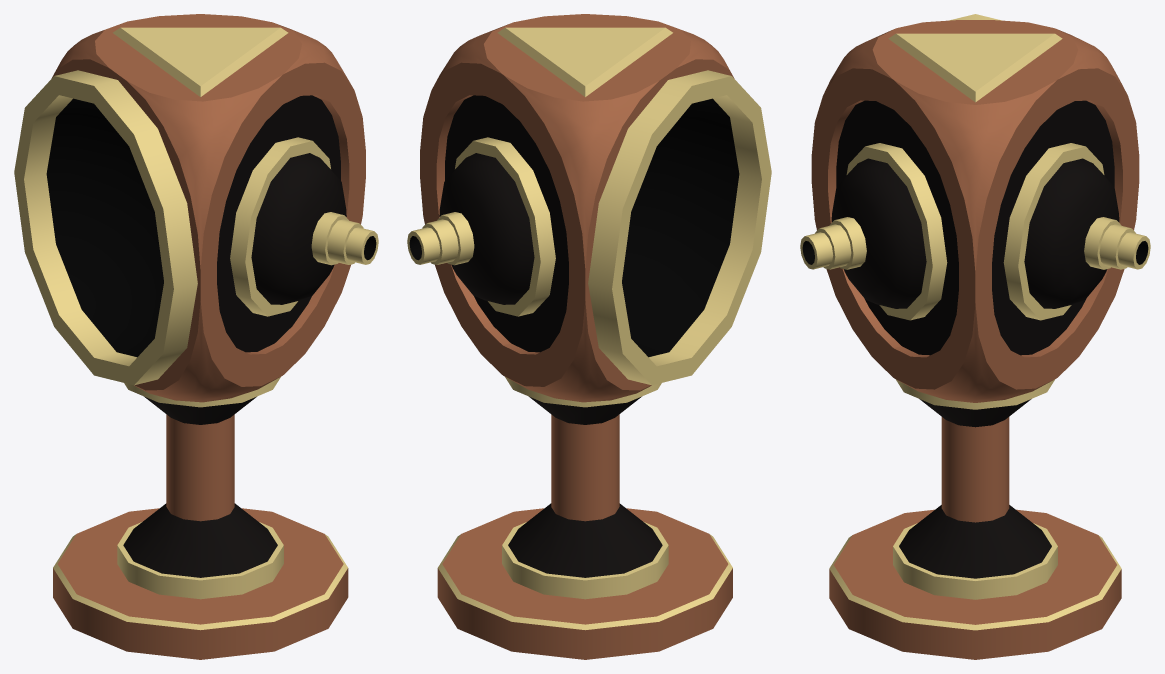
Rendered from Splitter.fbx.
3 renders of one model, left to right at view 1: azimuth 30°, elevation 25°; view 2: azimuth 150°, elevation 25°; view 3: azimuth 270°, elevation 25°, orthographic.
Parts seen in each view (by area): view 1: splitter, shooters; view 2: splitter, shooters; view 3: splitter, shooters.
Part boxes in pixels (x1,y1,x2,y2): splitter: [14, 14, 365, 659]; shooters: [230, 137, 378, 316]; splitter: [420, 14, 771, 659]; shooters: [407, 137, 555, 316]; splitter: [811, 14, 1139, 659]; shooters: [800, 143, 1150, 320].
Size of what is drawn, in the model's own units: 0.0434 by 0.0779 by 0.0454.
